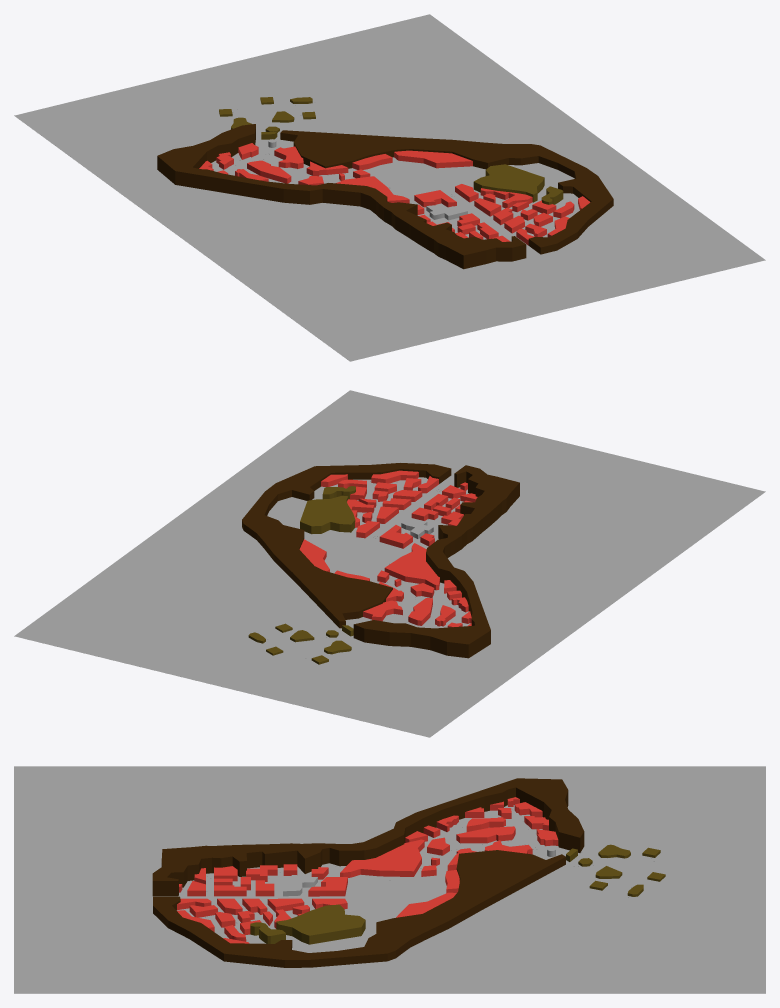
File: lvl2.fbx
3 renders of one model, top to bottom at view 1: azimuth 30°, elevation 25°; view 2: azimuth 150°, elevation 25°; view 3: azimuth 270°, elevation 25°, orthographic. The views are drawn at different scales.
Visible parts, largest first — view 1: wall_02, home, wall_01, plane22, plane21, plane19, plane34, plane24, plane23, plane18, plane39, plane38 (+27 smaller); view 2: home, wall_01, wall_02, plane27, plane22, plane40, plane32, plane24, plane15, plane39, plane33, plane23 (+27 smaller); view 3: home, wall_01, wall_02, plane40, plane39, plane38, plane34, plane32, plane27, plane23, plane22, plane21 (+27 smaller).
Boxes of the visible parts, left/top/right/bottom form: wall_02: left=157, top=124, right=526, bottom=269; home: left=199, top=143, right=590, bottom=245; wall_01: left=280, top=130, right=613, bottom=254; plane22: left=254, top=271, right=384, bottom=326; plane21: left=302, top=306, right=432, bottom=361; plane19: left=469, top=265, right=599, bottom=320; plane34: left=635, top=225, right=765, bottom=280; plane24: left=158, top=201, right=288, bottom=256; plane23: left=206, top=236, right=336, bottom=291; plane18: left=386, top=286, right=515, bottom=341; plane39: left=395, top=49, right=525, bottom=104; plane38: left=443, top=84, right=573, bottom=139; home: left=299, top=470, right=477, bottom=627; wall_01: left=242, top=463, right=451, bottom=628; wall_02: left=353, top=465, right=519, bottom=658; plane27: left=347, top=682, right=477, bottom=737; plane22: left=587, top=506, right=717, bottom=561; plane40: left=14, top=601, right=144, bottom=656; plane32: left=145, top=586, right=275, bottom=641; plane24: left=491, top=577, right=621, bottom=632; plane15: left=504, top=486, right=634, bottom=541; plane39: left=62, top=566, right=192, bottom=621; plane33: left=97, top=621, right=227, bottom=676; plane23: left=539, top=542, right=669, bottom=596; home: left=177, top=797, right=558, bottom=943; wall_01: left=153, top=850, right=565, bottom=967; wall_02: left=152, top=778, right=584, bottom=896; plane40: left=658, top=948, right=765, bottom=993; plane39: left=551, top=948, right=658, bottom=993; plane38: left=443, top=948, right=550, bottom=993; plane34: left=14, top=948, right=121, bottom=993; plane32: left=551, top=902, right=658, bottom=947; plane27: left=658, top=766, right=765, bottom=811; plane23: left=229, top=766, right=336, bottom=811; plane22: left=121, top=766, right=228, bottom=811; plane21: left=14, top=766, right=121, bottom=811.
Bounding box in the file's own units: 667 × 32.02 × 934.
